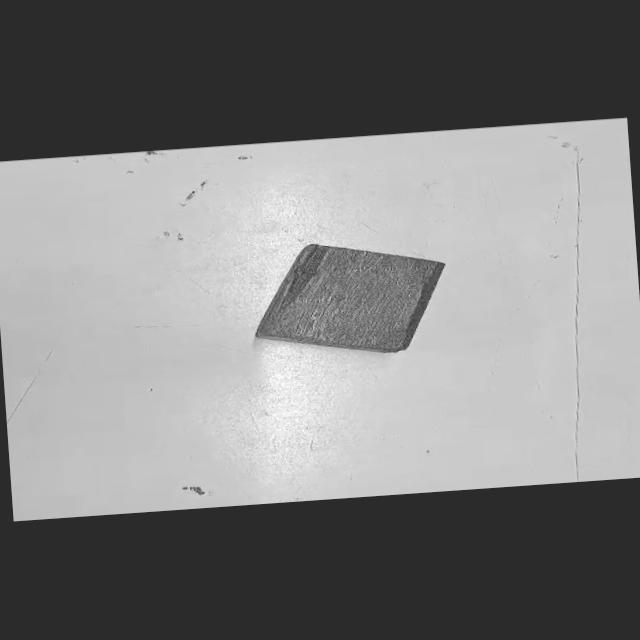bcube: (244, 233, 453, 363)
